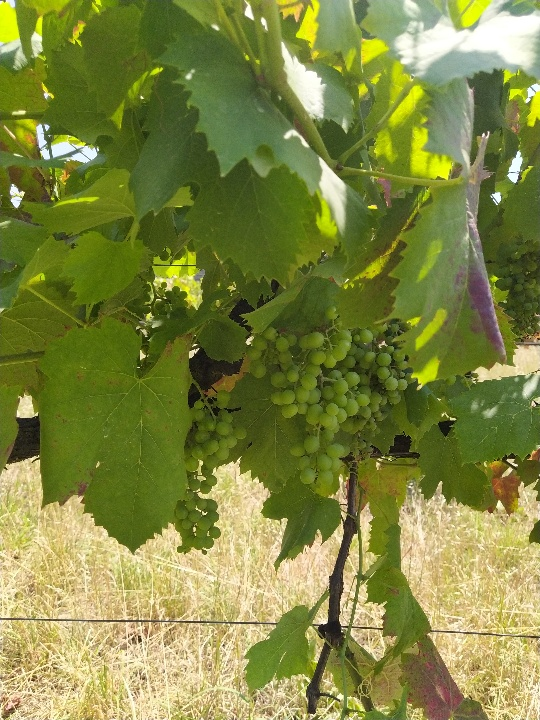grape: (251, 327, 415, 503), (174, 393, 247, 558)
